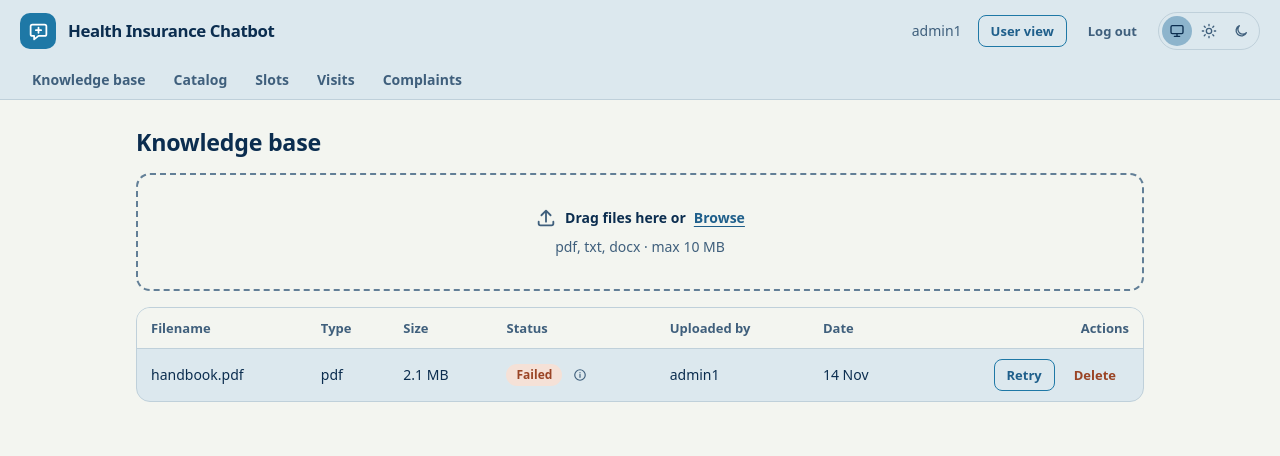
Test: AdminKbPage › G5: the error toggle says whether the message is shown
Step 1. Click the button named "Show error" → (580, 375), box left=566, top=363, right=594, bottom=387
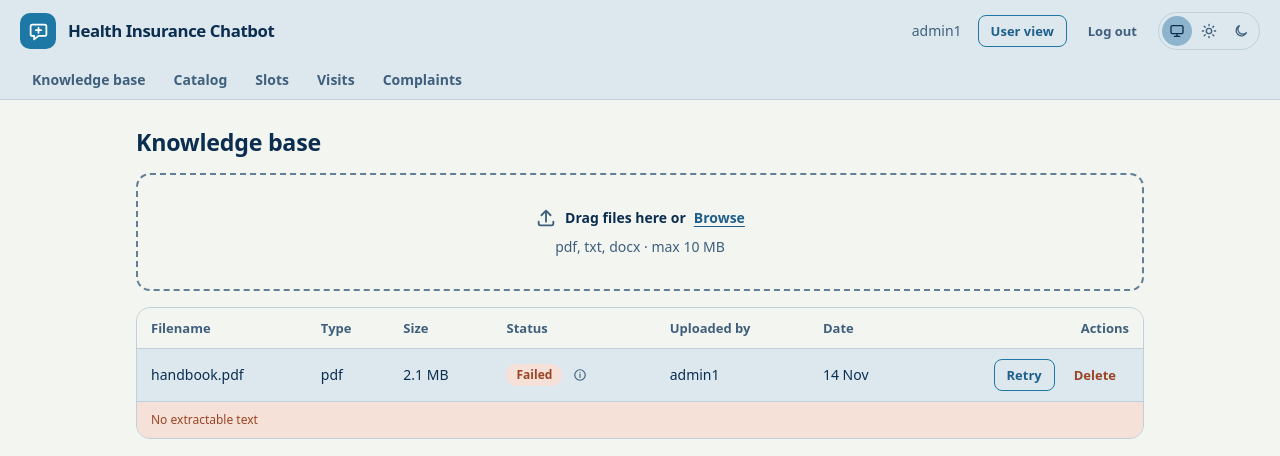
Expected: the cell with test id "kb-error-message" reads "No extractable text", left=151, top=411, right=258, bottom=428
